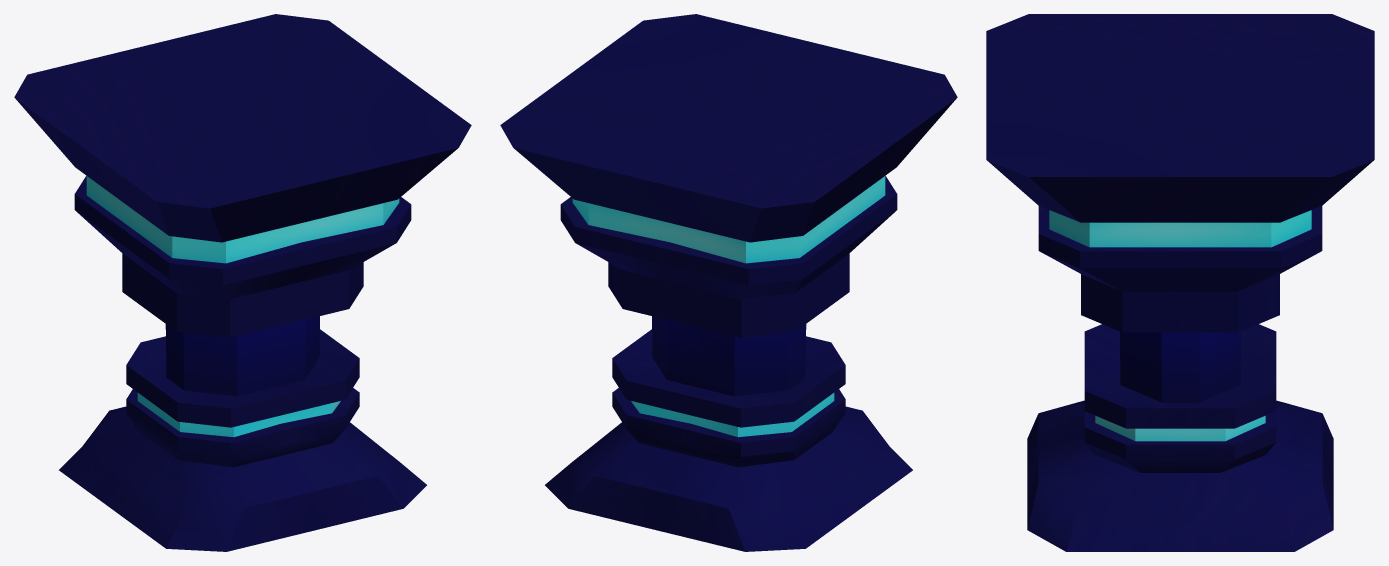
The model's file is VIGAMESA_R.obj.
3 renders of one model, left to right at view 1: azimuth 30°, elevation 25°; view 2: azimuth 150°, elevation 25°; view 3: azimuth 270°, elevation 25°, orthographic. The views are drawn at different scales.
Parts seen in each view (by area): view 1: pCube1_pCube1SG, pCube1_pCube1SG_27, pCube1_pCube1SG_15, pCube1_pCube1SG_4, pCube1_pCube1SG_19, pCube1_pCube1SG_3, pCube1_pCube1SG_18, pCube1_pCube1SG_28, pCube1_pCube1SG_16, pCube1_pCube1SG_21, pCube1_pCube1SG1_5, pCube1_pCube1SG1_1 (+15 smaller); view 2: pCube1_pCube1SG, pCube1_pCube1SG_27, pCube1_pCube1SG_10, pCube1_pCube1SG_25, pCube1_pCube1SG_21, pCube1_pCube1SG_28, pCube1_pCube1SG_22, pCube1_pCube1SG_24, pCube1_pCube1SG_9, pCube1_pCube1SG_6, pCube1_pCube1SG1_7, pCube1_pCube1SG_12 (+15 smaller); view 3: pCube1_pCube1SG, pCube1_pCube1SG_13, pCube1_pCube1SG_12, pCube1_pCube1SG_6, pCube1_pCube1SG2_8, pCube1_pCube1SG_1, pCube1_pCube1SG_7, pCube1_pCube1SG_15, pCube1_pCube1SG_14, pCube1_pCube1SG_4, pCube1_pCube1SG_19, pCube1_pCube1SG1_4 (+10 smaller).
Part boxes in pixels (left/top/right/bottom): pCube1_pCube1SG: left=14, top=14, right=471, bottom=508; pCube1_pCube1SG_27: left=59, top=365, right=183, bottom=548; pCube1_pCube1SG_15: left=166, top=197, right=410, bottom=551; pCube1_pCube1SG_4: left=272, top=380, right=403, bottom=530; pCube1_pCube1SG_19: left=226, top=388, right=314, bottom=551; pCube1_pCube1SG_3: left=290, top=148, right=457, bottom=323; pCube1_pCube1SG_18: left=210, top=178, right=333, bottom=337; pCube1_pCube1SG_28: left=15, top=98, right=176, bottom=331; pCube1_pCube1SG_16: left=157, top=202, right=230, bottom=337; pCube1_pCube1SG_21: left=63, top=242, right=309, bottom=465; pCube1_pCube1SG1_5: left=183, top=333, right=237, bottom=396; pCube1_pCube1SG1_1: left=271, top=319, right=305, bottom=387; pCube1_pCube1SG: left=500, top=14, right=957, bottom=208; pCube1_pCube1SG_27: left=662, top=242, right=912, bottom=548; pCube1_pCube1SG_10: left=514, top=148, right=681, bottom=530; pCube1_pCube1SG_25: left=638, top=178, right=761, bottom=551; pCube1_pCube1SG_21: left=729, top=390, right=805, bottom=551; pCube1_pCube1SG_28: left=795, top=98, right=956, bottom=331; pCube1_pCube1SG_22: left=741, top=202, right=814, bottom=337; pCube1_pCube1SG_24: left=662, top=388, right=793, bottom=508; pCube1_pCube1SG_9: left=594, top=380, right=699, bottom=491; pCube1_pCube1SG_6: left=545, top=357, right=666, bottom=508; pCube1_pCube1SG1_7: left=734, top=333, right=788, bottom=396; pCube1_pCube1SG_12: left=575, top=225, right=690, bottom=442; pCube1_pCube1SG: left=986, top=14, right=1374, bottom=551; pCube1_pCube1SG_13: left=1029, top=177, right=1331, bottom=332; pCube1_pCube1SG_12: left=1066, top=206, right=1322, bottom=551; pCube1_pCube1SG_6: left=1038, top=206, right=1333, bottom=551; pCube1_pCube1SG2_8: left=1089, top=222, right=1271, bottom=247; pCube1_pCube1SG_1: left=987, top=160, right=1122, bottom=332; pCube1_pCube1SG_7: left=1238, top=160, right=1373, bottom=332; pCube1_pCube1SG_15: left=1040, top=247, right=1280, bottom=459; pCube1_pCube1SG_14: left=1080, top=251, right=1280, bottom=268; pCube1_pCube1SG_4: left=1027, top=361, right=1120, bottom=529; pCube1_pCube1SG_19: left=1027, top=332, right=1120, bottom=483; pCube1_pCube1SG1_4: left=1161, top=332, right=1199, bottom=402.
Bounding box in the file's own units: 129 × 144 × 130.
3 materials, 3 textured.
